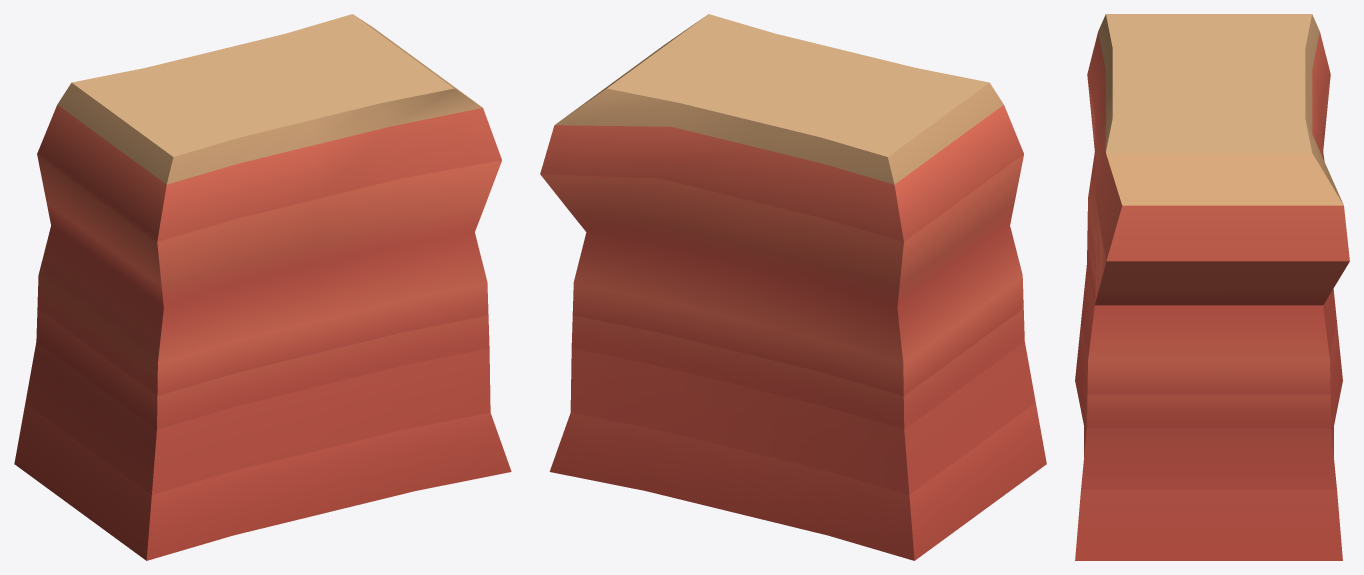
File: StoneWall016.fbx
The picture shows the model from 3 angles, left to right: view 1: azimuth 30°, elevation 25°; view 2: azimuth 150°, elevation 25°; view 3: azimuth 270°, elevation 25°; orthographic projection.
Visible parts, largest first — view 1: StoneWall016; view 2: StoneWall016; view 3: StoneWall016.
Boxes of the visible parts, <box> form: StoneWall016: <box>14,14,511,560</box>; StoneWall016: <box>540,14,1046,560</box>; StoneWall016: <box>1075,14,1349,560</box>.
Bounding box in the file's own units: 456 × 449 × 289.
